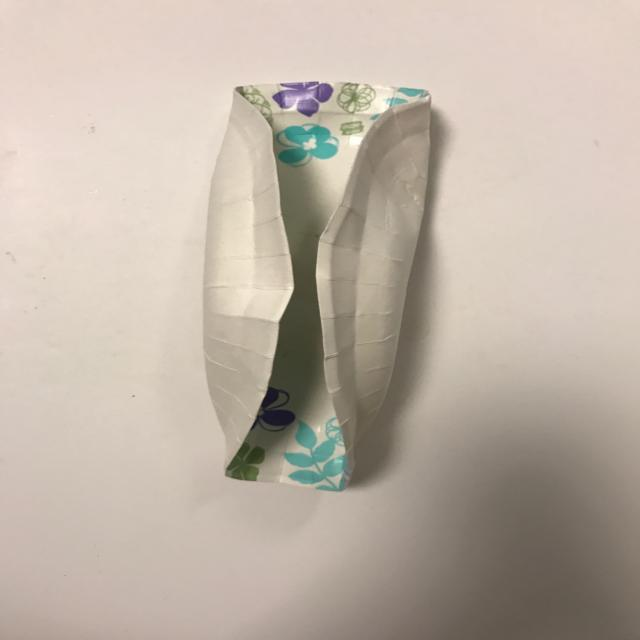Paper: (198, 80, 450, 494)
